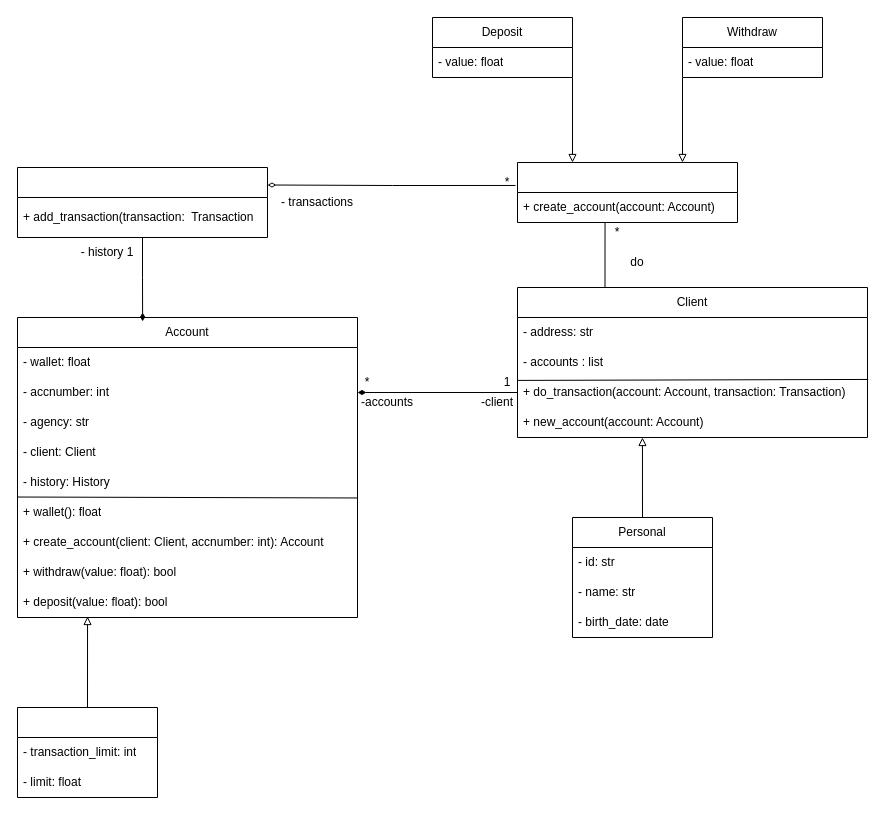
Some shapes in this 888 by 815 pixel diagram are drawn without their labels. Each missing label, with the box of its shape:
<Interface> Transaction: (516, 162, 738, 222)
BankAccount: (16, 706, 158, 798)
History: (16, 166, 268, 238)
